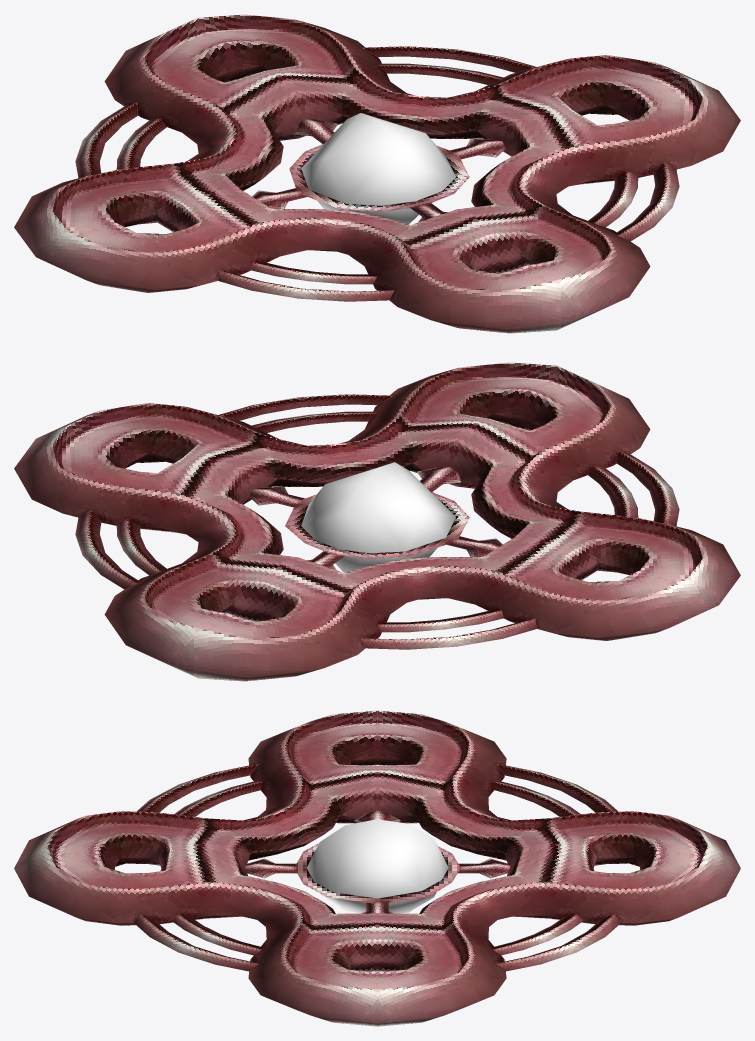
Rendered from curemark.glb.
The picture shows the model from 3 angles, top to bottom: view 1: azimuth 30°, elevation 25°; view 2: azimuth 150°, elevation 25°; view 3: azimuth 270°, elevation 25°; orthographic projection. The views are drawn at different scales.
Parts seen in each view (by area): view 1: model_curemark; view 2: model_curemark; view 3: model_curemark.
Boxes of the visible parts, x1,y1,x2,y2 form: model_curemark: (14,14,740,333); model_curemark: (14,362,740,681); model_curemark: (14,710,740,1026).
Bounding box in the file's own units: 0.5226 × 0.0775 × 0.523.
Materials: 2 (1 with a texture image).
